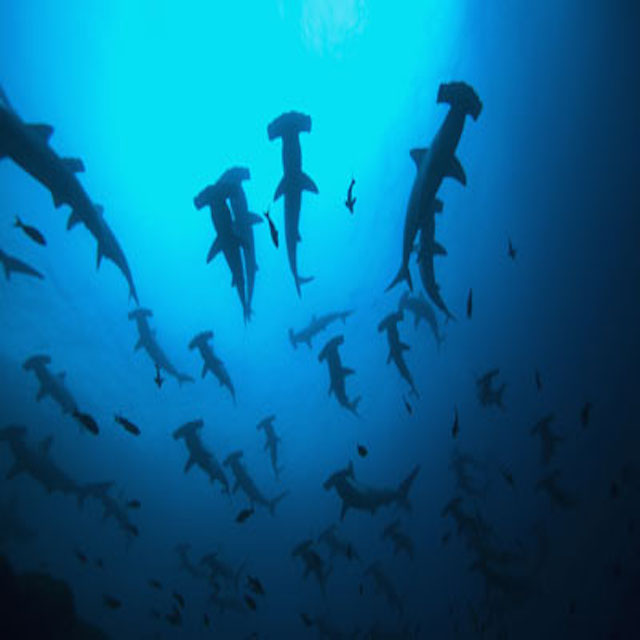hammerhead: (177, 167, 296, 253), (123, 294, 220, 386), (266, 100, 347, 199), (425, 80, 492, 191), (402, 169, 471, 256), (204, 167, 281, 226), (184, 327, 236, 392), (3, 420, 51, 478), (171, 417, 238, 458), (399, 274, 444, 326), (282, 538, 335, 581), (200, 544, 251, 587), (296, 333, 348, 375), (245, 412, 304, 448), (370, 524, 429, 559), (313, 471, 380, 501), (468, 358, 510, 403), (364, 313, 410, 354), (316, 524, 369, 558), (432, 491, 478, 527), (280, 324, 334, 353), (221, 449, 264, 481), (98, 490, 135, 522), (174, 538, 202, 579), (31, 359, 55, 385)
